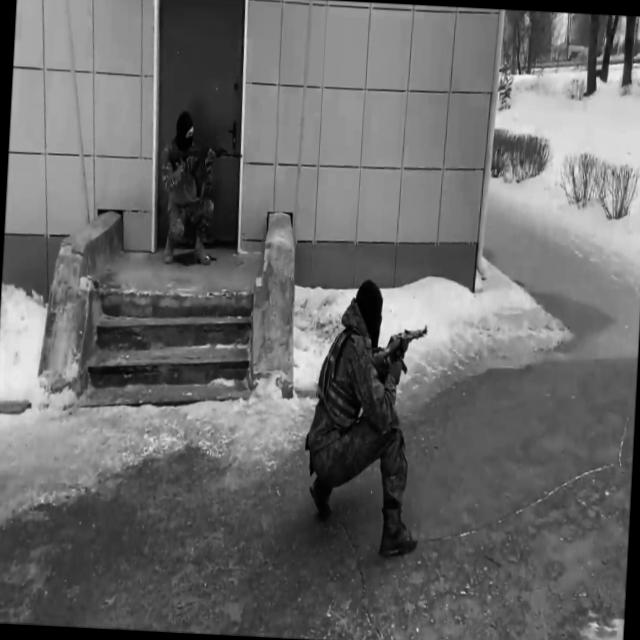gun: (372, 320, 428, 382), (168, 144, 243, 182), (391, 351, 408, 379)
person with a gun: (303, 277, 432, 560), (155, 110, 245, 270)
